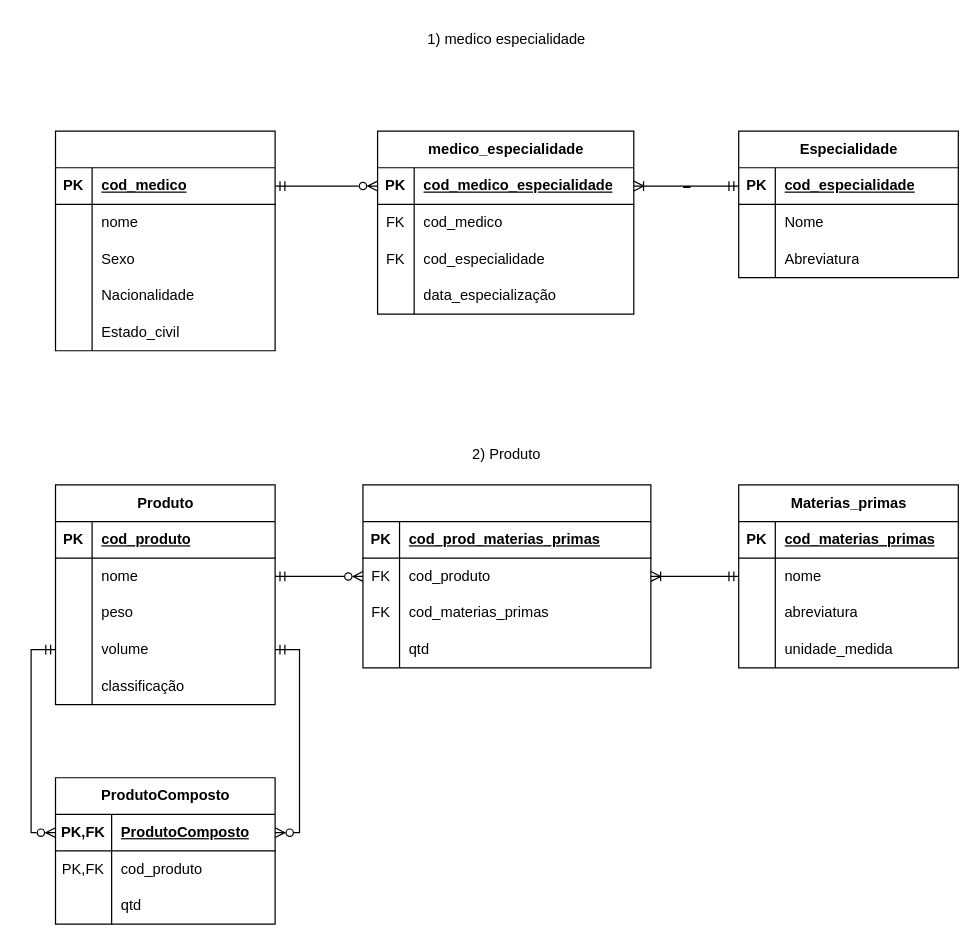
This 980x946 diagram has some shape labels left out. The box of each missing label's shape, as (x1, y1, x2, y2) in pixels:
Médico: (54, 130, 275, 351)
Produto_materias_primas: (362, 484, 651, 668)
